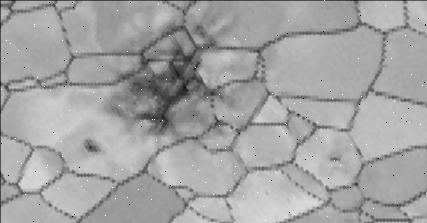good_void: (103, 16, 231, 141), (328, 148, 352, 169), (79, 136, 103, 153)
